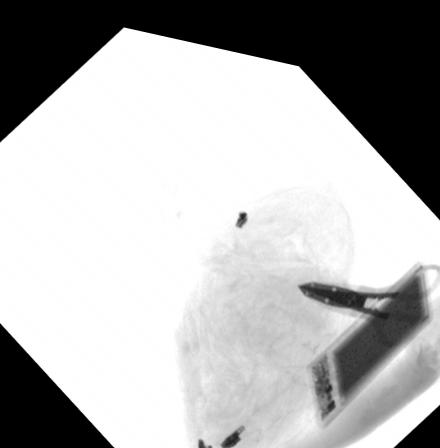Powerbank: (303, 241, 434, 416)
Scissors: (290, 243, 440, 332)
